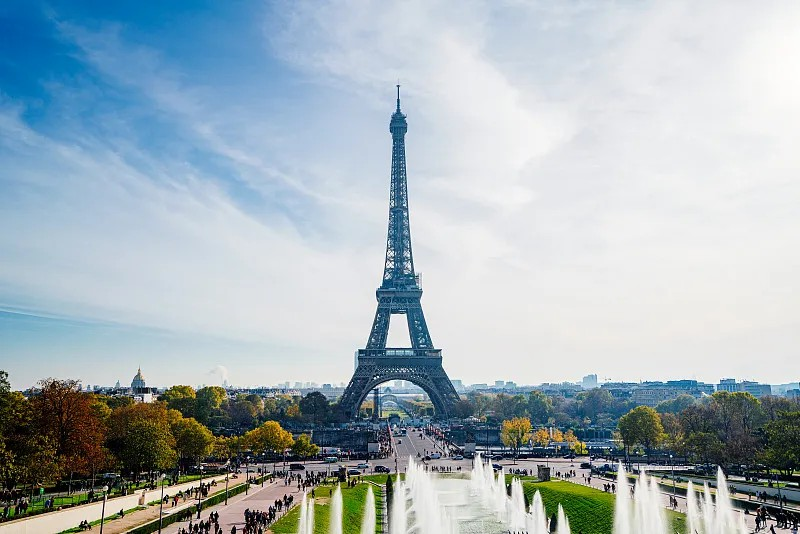Eiffel: (333, 78, 465, 420)
